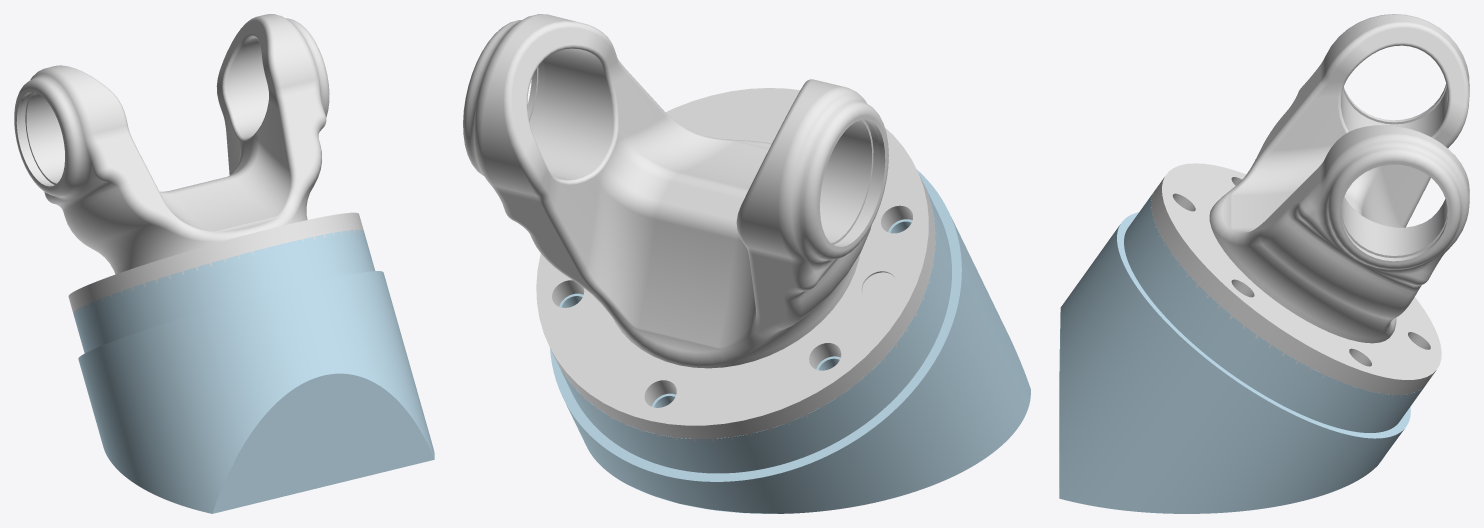
The model's file is cardan_bas6_2.dae.
3 renders of one model, left to right at view 1: azimuth 30°, elevation 25°; view 2: azimuth 150°, elevation 25°; view 3: azimuth 270°, elevation 25°, orthographic. The views are drawn at different scales.
Parts seen in each view (by area): view 1: STD04_0300_Articulation MISTRAL 600_M600_4, STD04_0300_Articulation MISTRAL 600_M600; view 2: STD04_0300_Articulation MISTRAL 600_M600, STD04_0300_Articulation MISTRAL 600_M600_4; view 3: STD04_0300_Articulation MISTRAL 600_M600, STD04_0300_Articulation MISTRAL 600_M600_4.
Part boxes in pixels (x1,y1,x2,y2): STD04_0300_Articulation MISTRAL 600_M600_4: (73,229,434,513); STD04_0300_Articulation MISTRAL 600_M600: (14,14,363,312); STD04_0300_Articulation MISTRAL 600_M600: (463,14,936,441); STD04_0300_Articulation MISTRAL 600_M600_4: (550,170,1030,513); STD04_0300_Articulation MISTRAL 600_M600: (1151,14,1469,397); STD04_0300_Articulation MISTRAL 600_M600_4: (1059,192,1425,513).
Size of the model in its own units: 0.105 by 0.1229 by 0.1215.
